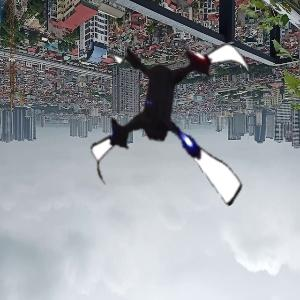drone: (79, 23, 278, 222)
